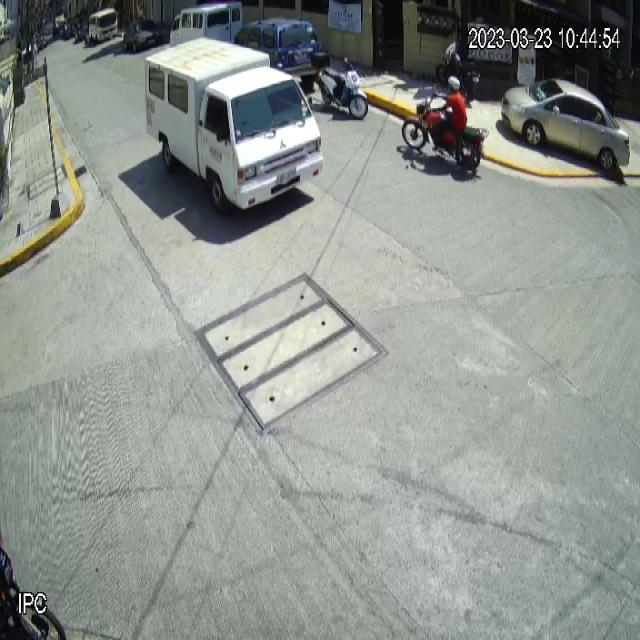Car: (500, 78, 630, 174), (218, 15, 322, 96)
Motorcycle: (400, 95, 489, 167), (310, 50, 369, 117)
Van: (144, 37, 322, 215)
